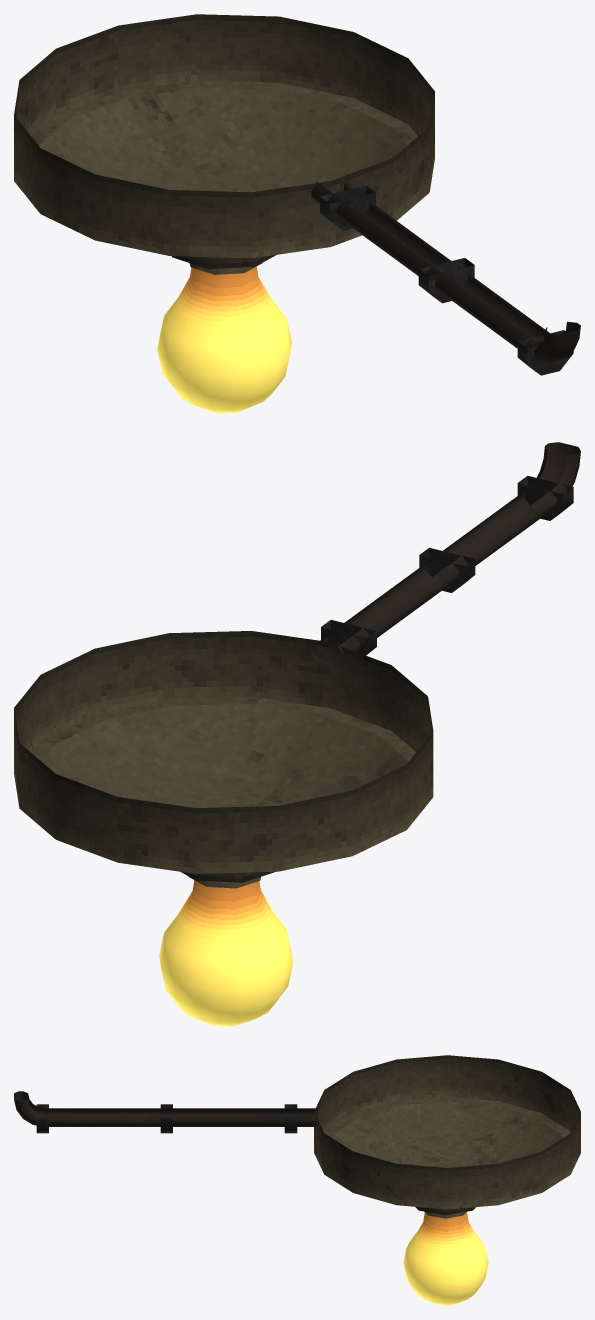
The model's file is ceiling_lamp_mp_1_1_on.glb.
3 views of the same model, one above another, from view 1: azimuth 30°, elevation 25°; view 2: azimuth 150°, elevation 25°; view 3: azimuth 270°, elevation 25° (orthographic). The views are drawn at different scales.
Parts seen in each view (by area): view 1: ceiling_lamp_mp_1_1_on; view 2: ceiling_lamp_mp_1_1_on; view 3: ceiling_lamp_mp_1_1_on.
Part boxes in pixels (x1=…): ceiling_lamp_mp_1_1_on: x1=14, y1=14, x2=580, y2=413; ceiling_lamp_mp_1_1_on: x1=14, y1=442, x2=580, y2=1026; ceiling_lamp_mp_1_1_on: x1=14, y1=1055, x2=580, y2=1305.
Size of the model in its own units: 0.215 by 0.1827 by 0.4568.
4 materials, 4 textured.
